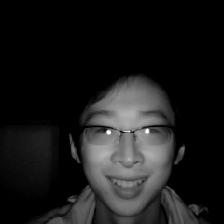happy: (59, 59, 194, 220)
